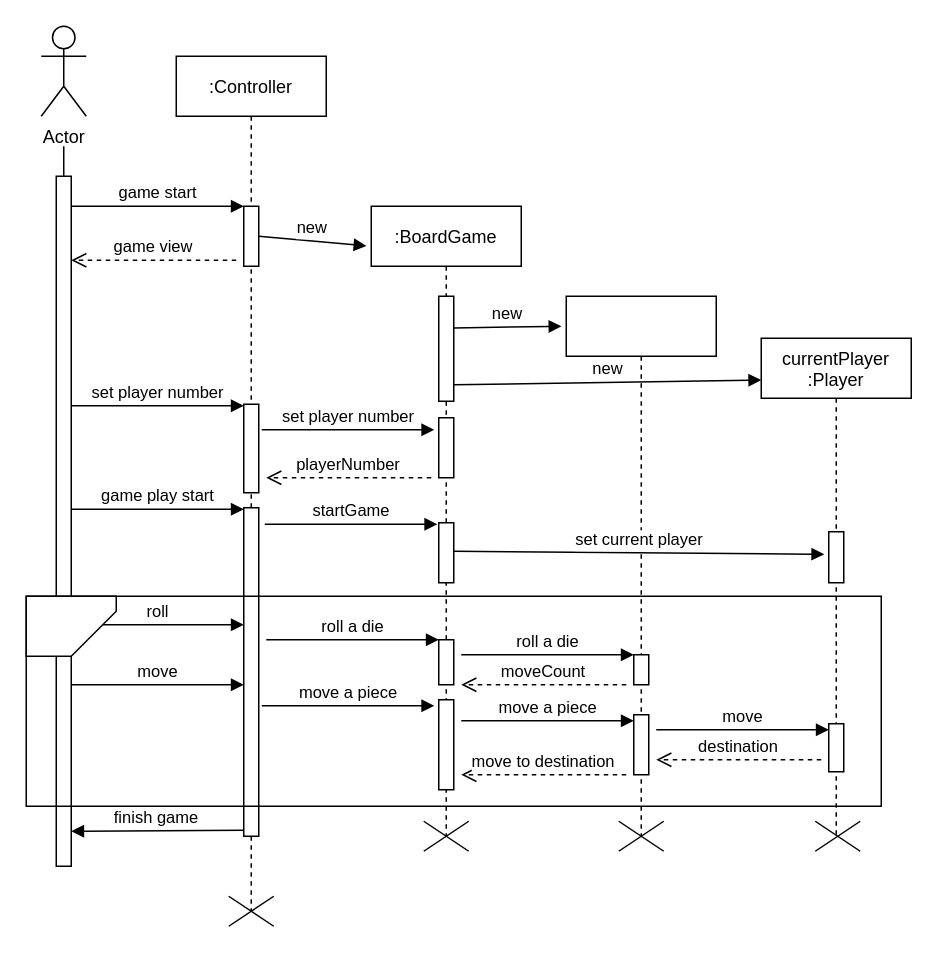
Some shapes in this 938 by 954 pixel diagram are drawn without their labels. The box of each missing label's shape, as (x1, y1, x2, y2) in pixels:
:Board: (565, 295, 716, 836)
loop: (25, 595, 116, 656)
